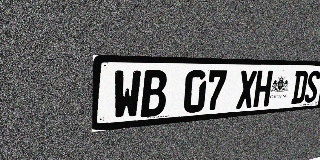0: (183, 70, 207, 114)
7: (204, 70, 227, 112)
B: (140, 70, 168, 117)
D: (291, 71, 309, 104)
H: (253, 70, 273, 107)
S: (304, 71, 320, 103)
W: (113, 70, 142, 120)
X: (236, 70, 257, 109)
